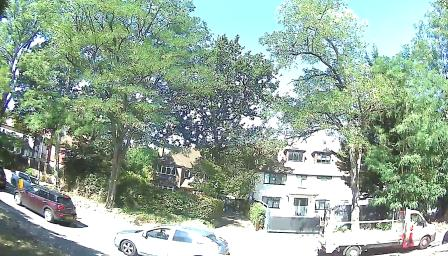Cars: (112, 231, 224, 252), (13, 185, 77, 221), (14, 168, 42, 186)
truck: (313, 211, 437, 250)
